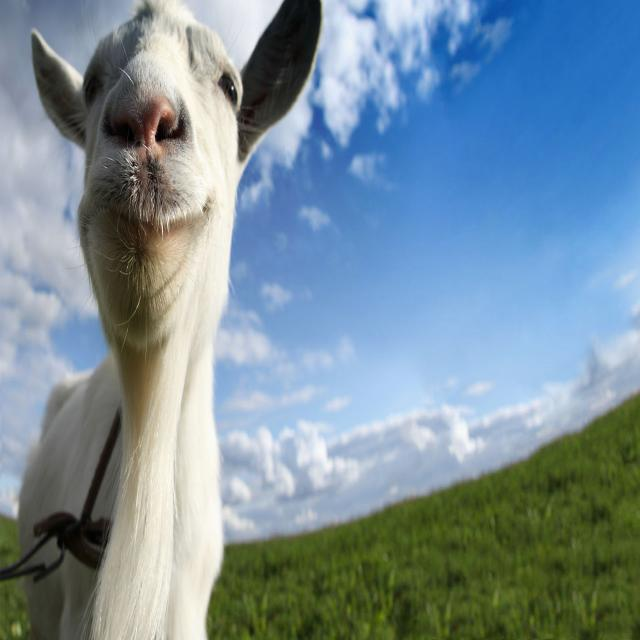goat: (19, 0, 322, 639)
